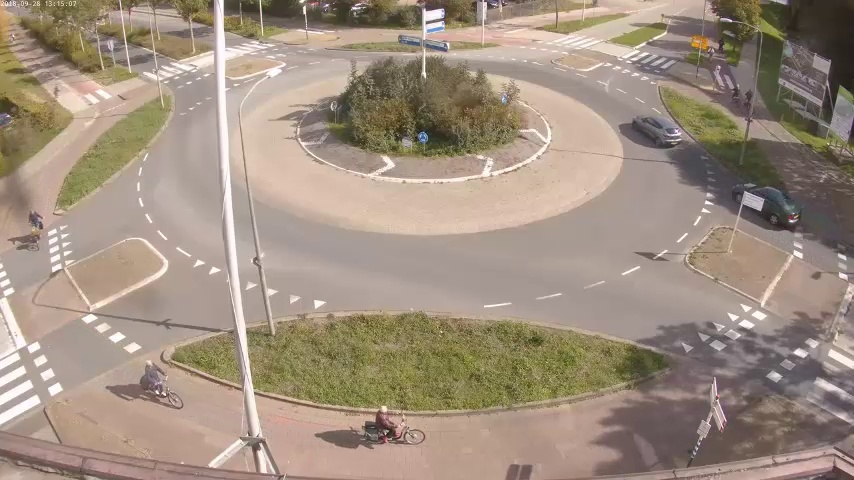bicycle: (363, 406, 428, 444), (143, 360, 187, 414), (23, 210, 44, 259), (744, 88, 753, 117), (730, 83, 741, 105)
car: (732, 181, 802, 226), (630, 113, 682, 149)
